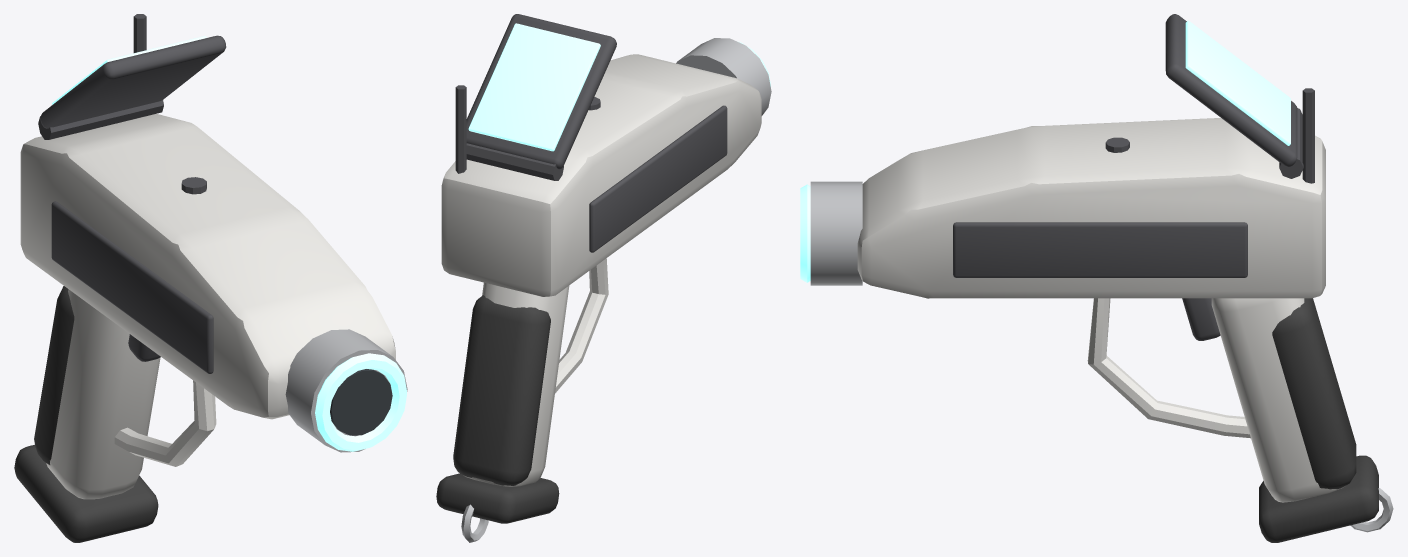
File: scanner.glb
The picture shows the model from 3 angles, left to right: view 1: azimuth 30°, elevation 25°; view 2: azimuth 150°, elevation 25°; view 3: azimuth 270°, elevation 25°; orthographic projection. The views are drawn at different scales.
Visible parts, largest first — view 1: Scanner; view 2: Scanner; view 3: Scanner.
Part boxes in pixels (left/top/right/bottom): Scanner: left=14, top=14, right=407, bottom=542; Scanner: left=436, top=14, right=771, bottom=542; Scanner: left=800, top=14, right=1393, bottom=542.
Size of the model in its own units: 0.092 by 0.3135 by 0.3417.
